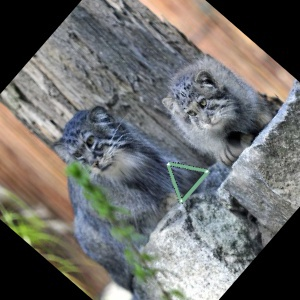triangle: (165, 158, 211, 204)
